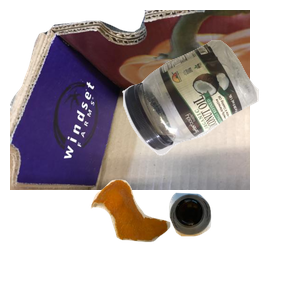cardboard: (10, 10, 250, 190)
glass: (166, 190, 300, 300)
plastic: (120, 37, 300, 185)
trash: (88, 177, 251, 300)
